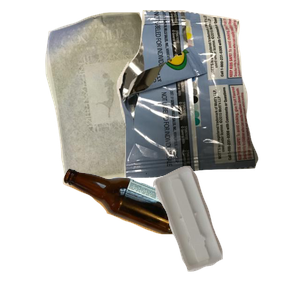glass: (60, 166, 241, 300)
paper: (43, 10, 221, 185)
plastic: (150, 163, 300, 300)
trash: (114, 10, 300, 180)
